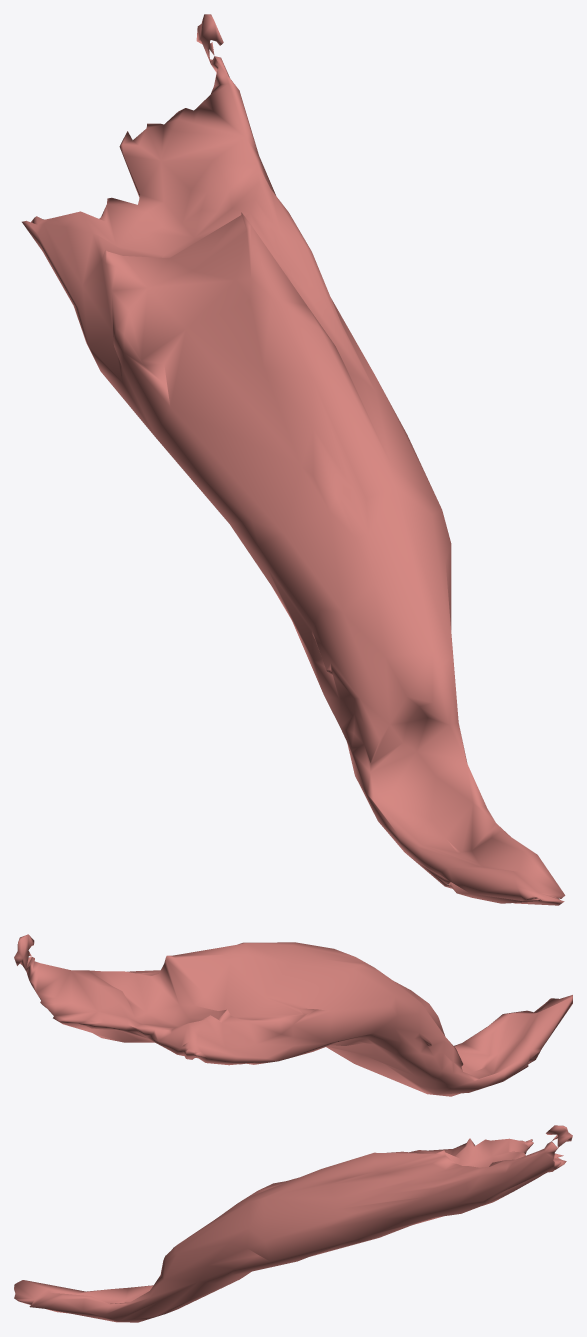
3 views of the same model, one above another, from view 1: azimuth 30°, elevation 25°; view 2: azimuth 150°, elevation 25°; view 3: azimuth 270°, elevation 25° (orthographic). The views are drawn at different scales.
Visible parts, largest first — view 1: ZA_b2fc8d0e352fa634; view 2: ZA_b2fc8d0e352fa634; view 3: ZA_b2fc8d0e352fa634.
Boxes of the visible parts, bbox=[...] form: ZA_b2fc8d0e352fa634: bbox=[22, 14, 565, 905]; ZA_b2fc8d0e352fa634: bbox=[14, 934, 572, 1096]; ZA_b2fc8d0e352fa634: bbox=[14, 1125, 572, 1322].
Bounding box in the file's own units: 0.0209 × 0.0385 × 0.0813.
